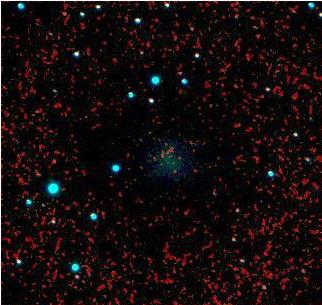star: (39, 147, 69, 177)
